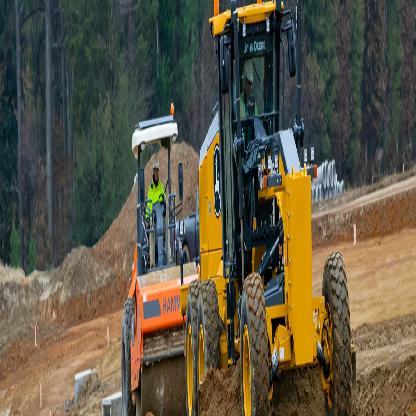bull_dozer/loader/grader: (187, 9, 358, 414)
